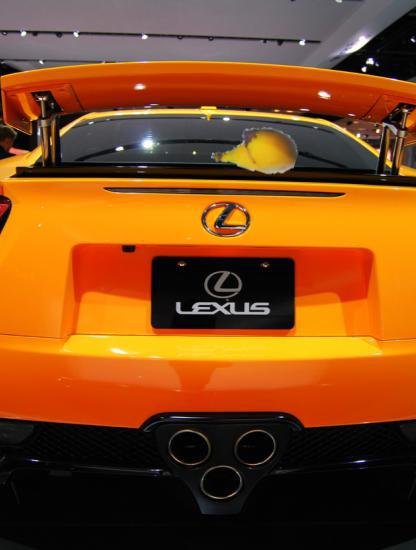Banana: (216, 107, 298, 189)
